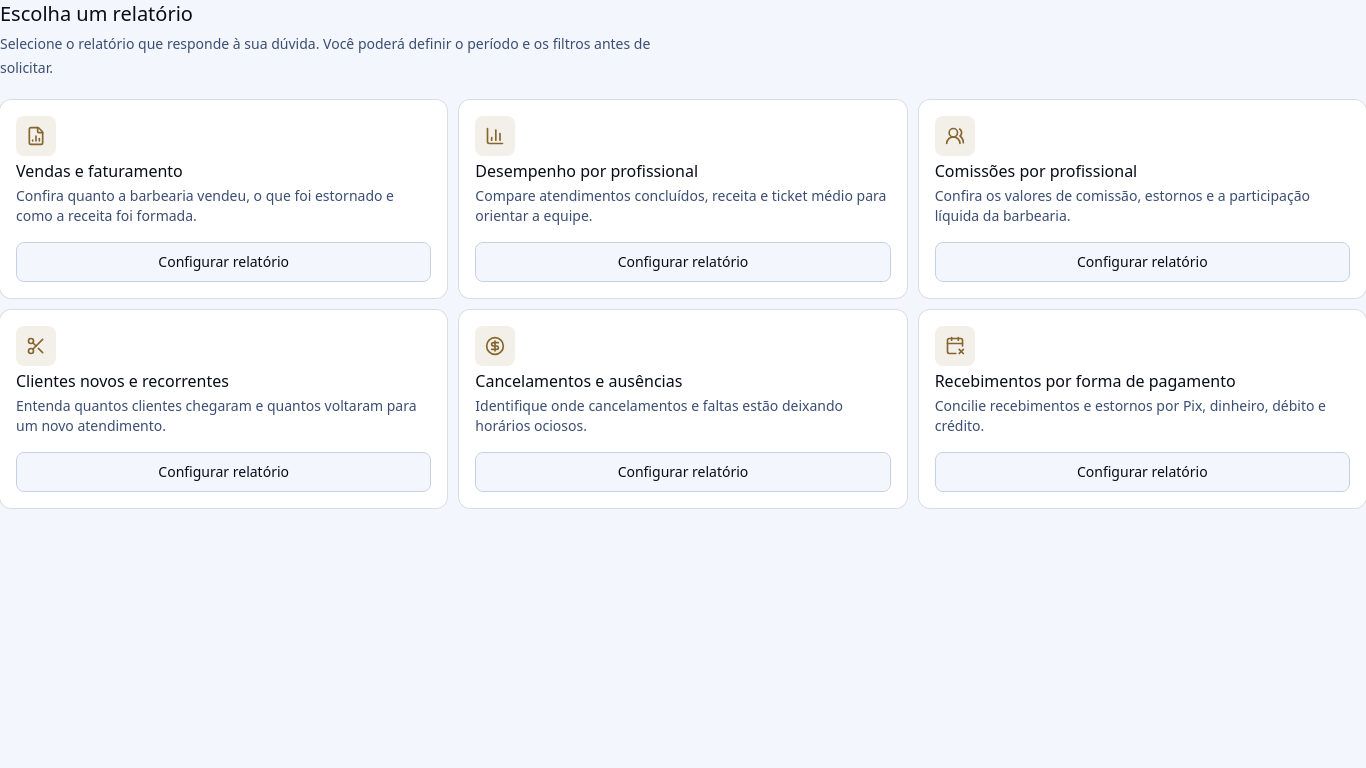
Test: generated reports catalog › blocks review when the report period is inverted
Click the button "Configurar relatório" below "Vendas e faturamento". click: (224, 262)
box: [16,242,431,282]
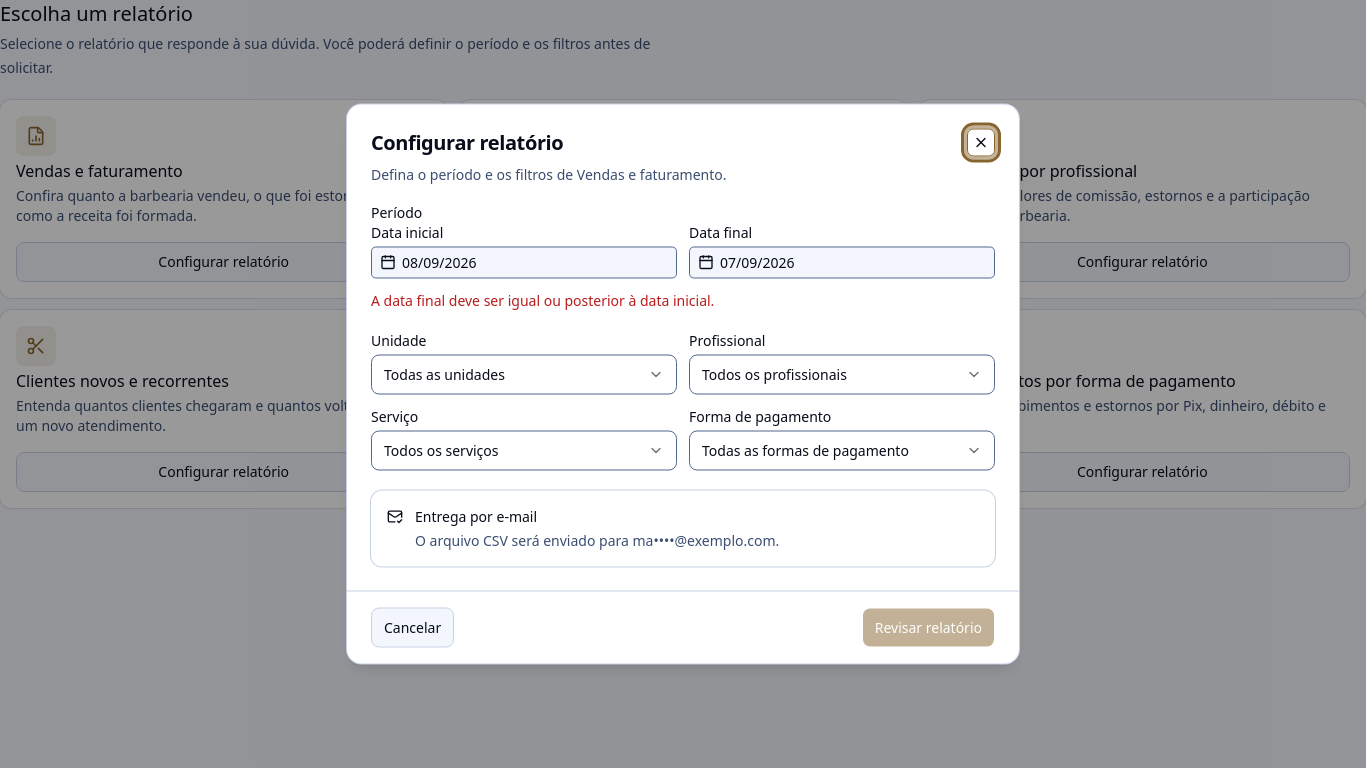
Now the message reads "A data final deve ser igual ou posterior à data inicial.", box [371,290,714,310]
Now the button "Revisar relatório" is disabled, box [862,608,995,648]
